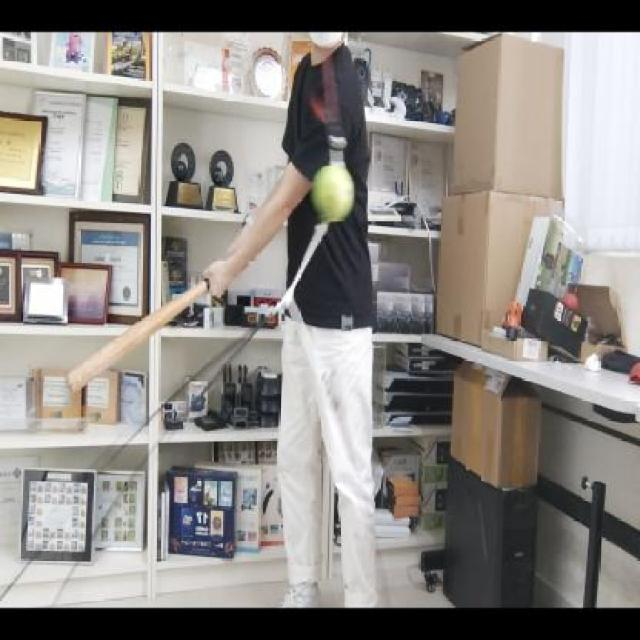baseball: (322, 162, 350, 216)
